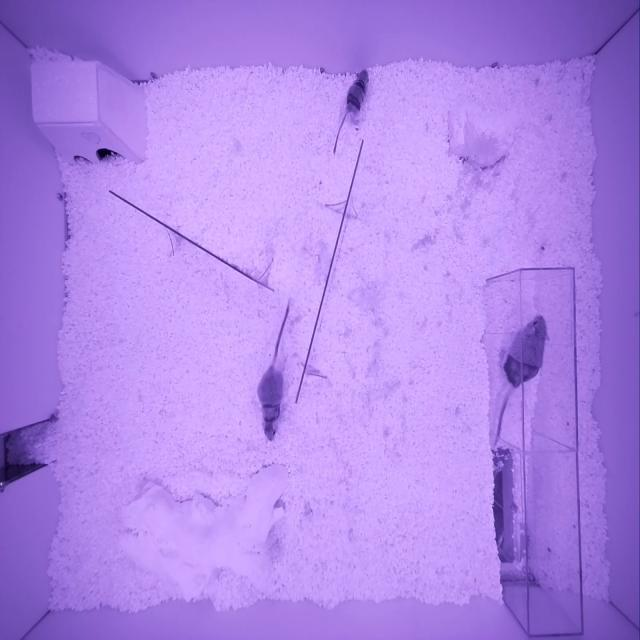adult_back: (503, 314, 550, 388)
adult_front: (257, 367, 283, 441)
pup_h_stripe: (345, 70, 369, 115)
